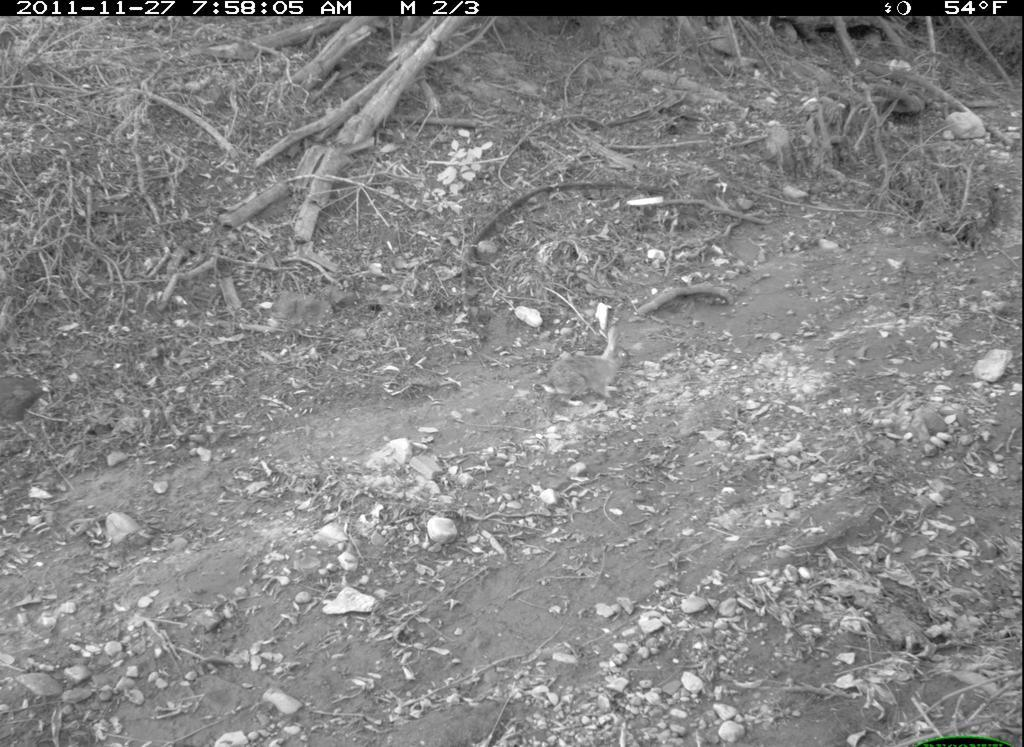rabbit: (543, 324, 644, 417)
